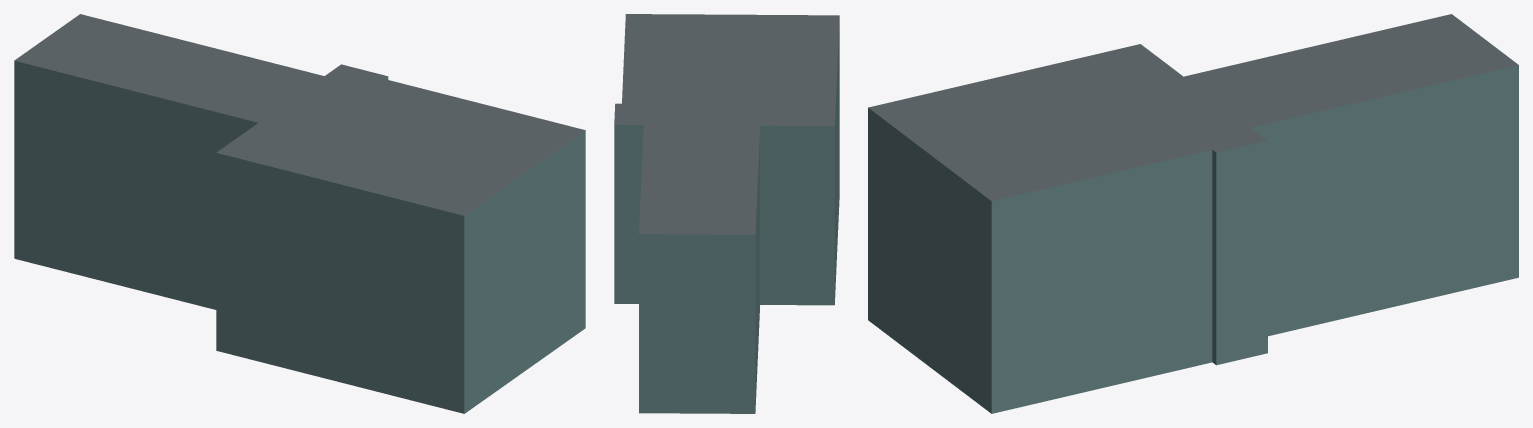
The model's file is nyc-1076172-0.glb.
The picture shows the model from 3 angles, left to right: view 1: azimuth 30°, elevation 25°; view 2: azimuth 150°, elevation 25°; view 3: azimuth 270°, elevation 25°; orthographic projection. The views are drawn at different scales.
Parts seen in each view (by area): view 1: nyc-1076172-0; view 2: nyc-1076172-0; view 3: nyc-1076172-0.
Part boxes in pixels (x1,y1,x2,y2): nyc-1076172-0: [14, 14, 585, 413]; nyc-1076172-0: [614, 14, 839, 413]; nyc-1076172-0: [868, 14, 1518, 413].
Size of the model in its own units: 43.74 by 23.16 by 64.23.
